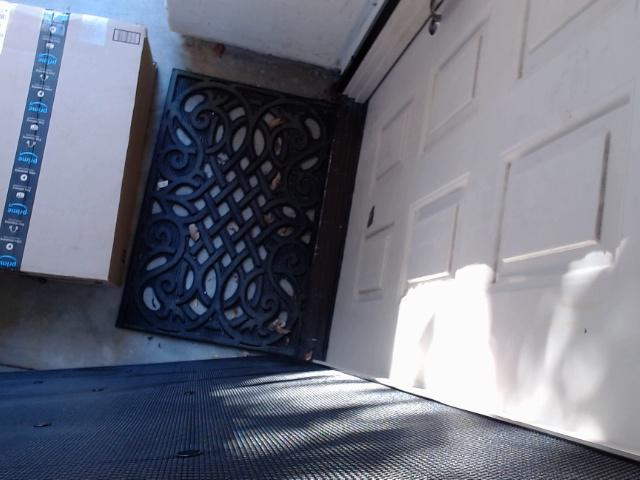box: (0, 0, 187, 315)
